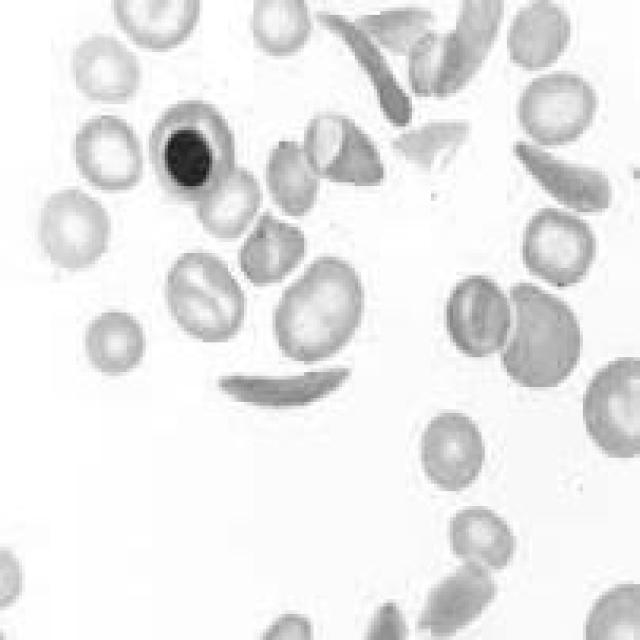RBC: (272, 253, 370, 365), (29, 179, 114, 279), (513, 205, 602, 298), (165, 249, 250, 346), (510, 67, 602, 153), (63, 30, 152, 115), (441, 502, 529, 580), (418, 402, 488, 498), (583, 350, 640, 465), (79, 301, 152, 387), (70, 116, 146, 198), (108, 0, 206, 60), (503, 0, 576, 74)
sickle cell: (209, 346, 371, 432), (314, 4, 415, 134), (497, 134, 618, 223)
